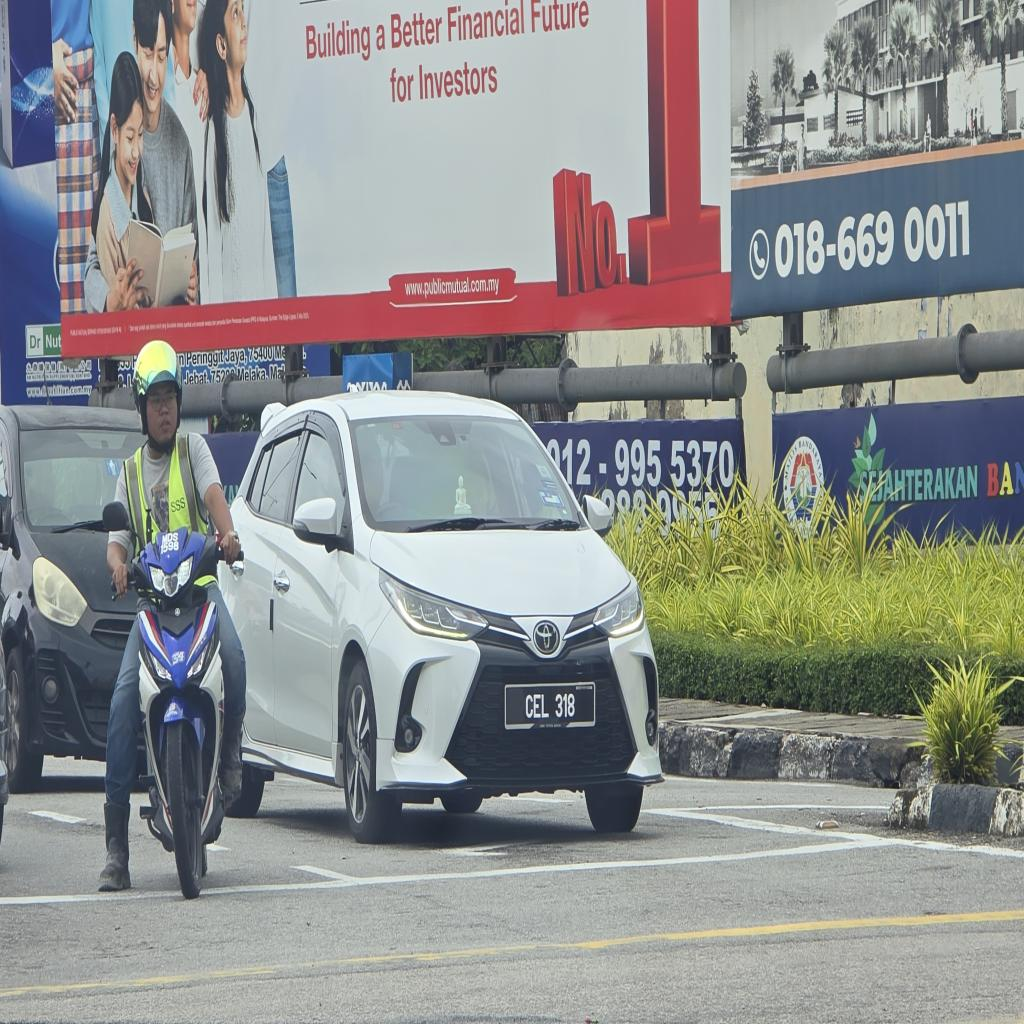car: (221, 393, 661, 840)
car plate: (505, 683, 595, 729)
